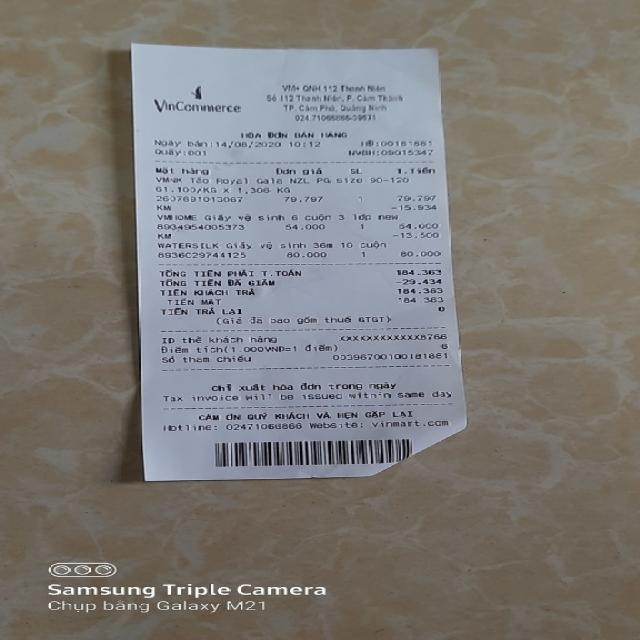Date: (216, 141, 283, 148)
Store_Name: (153, 97, 246, 118)
amount_number: (392, 268, 445, 276)
label_total: (156, 268, 304, 278)
